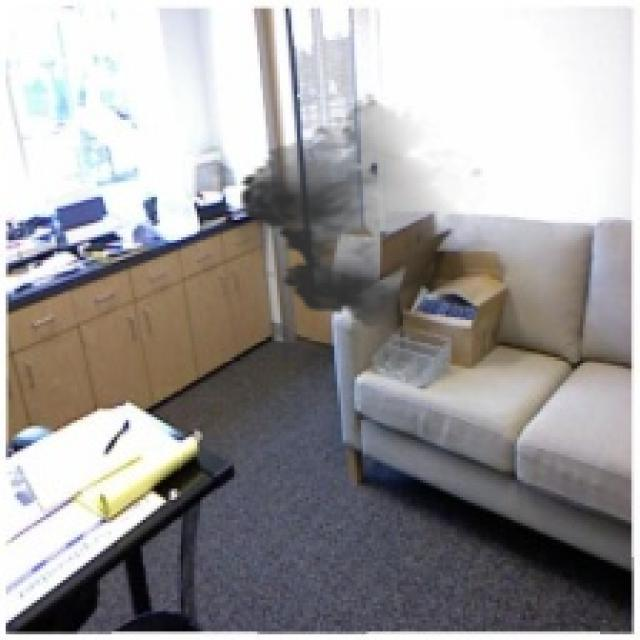Smoke: (228, 92, 498, 334)
